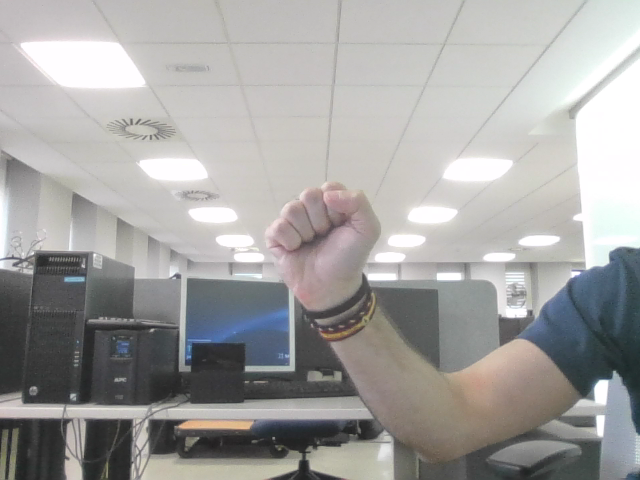Puño: (281, 189, 363, 263)
